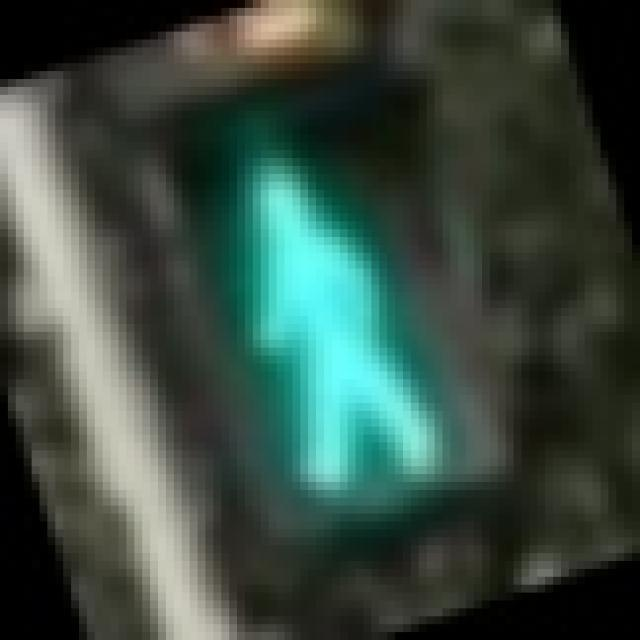geen-crossing: (110, 55, 506, 545)
